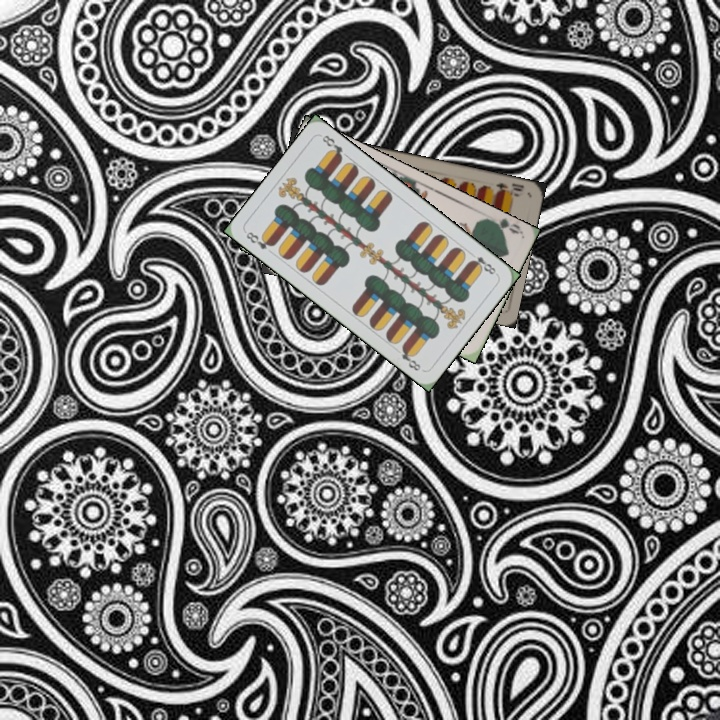E10: (492, 179, 526, 199)
E8: (465, 248, 500, 278), (242, 227, 277, 252)
GO: (482, 214, 522, 237)
